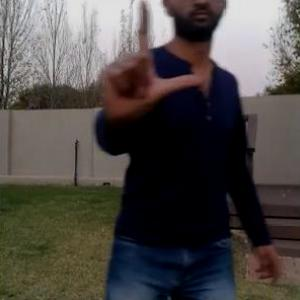land_hand: (96, 0, 209, 127)
